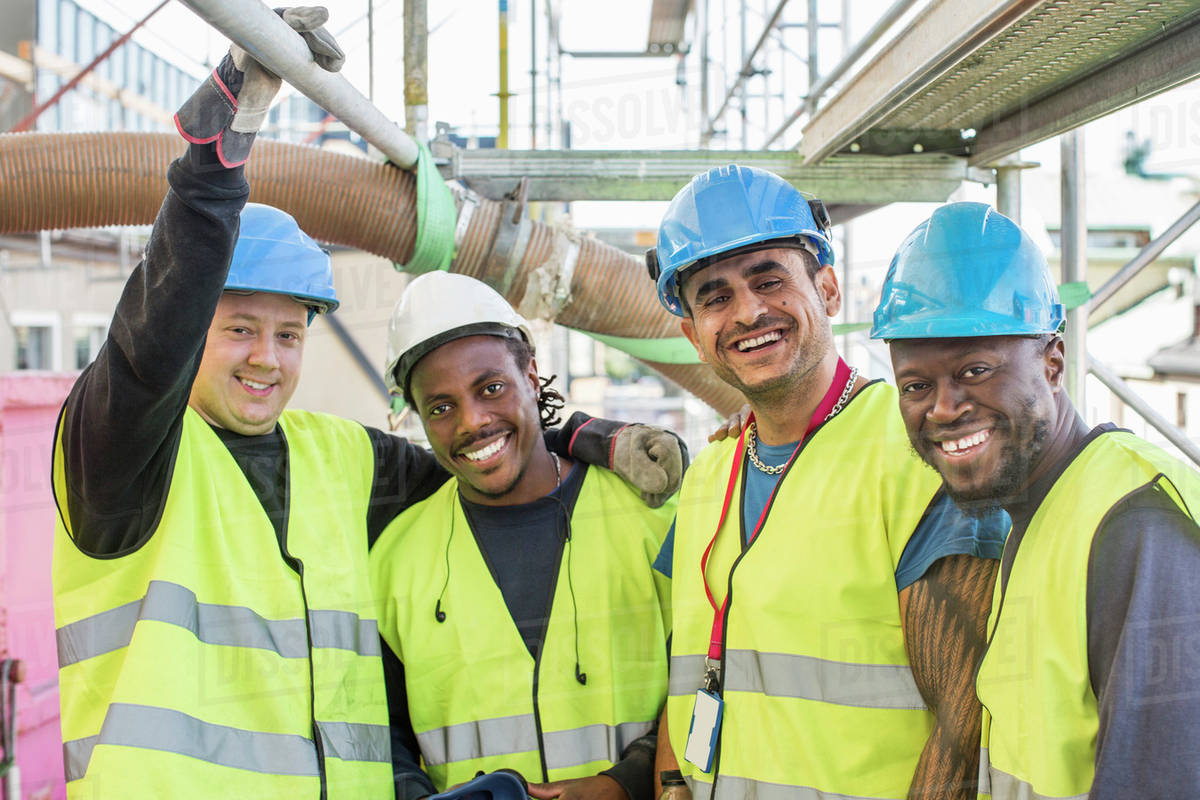Safety Helmet: (868, 187, 1106, 497), (629, 145, 868, 423), (381, 262, 568, 513), (189, 180, 331, 448)
